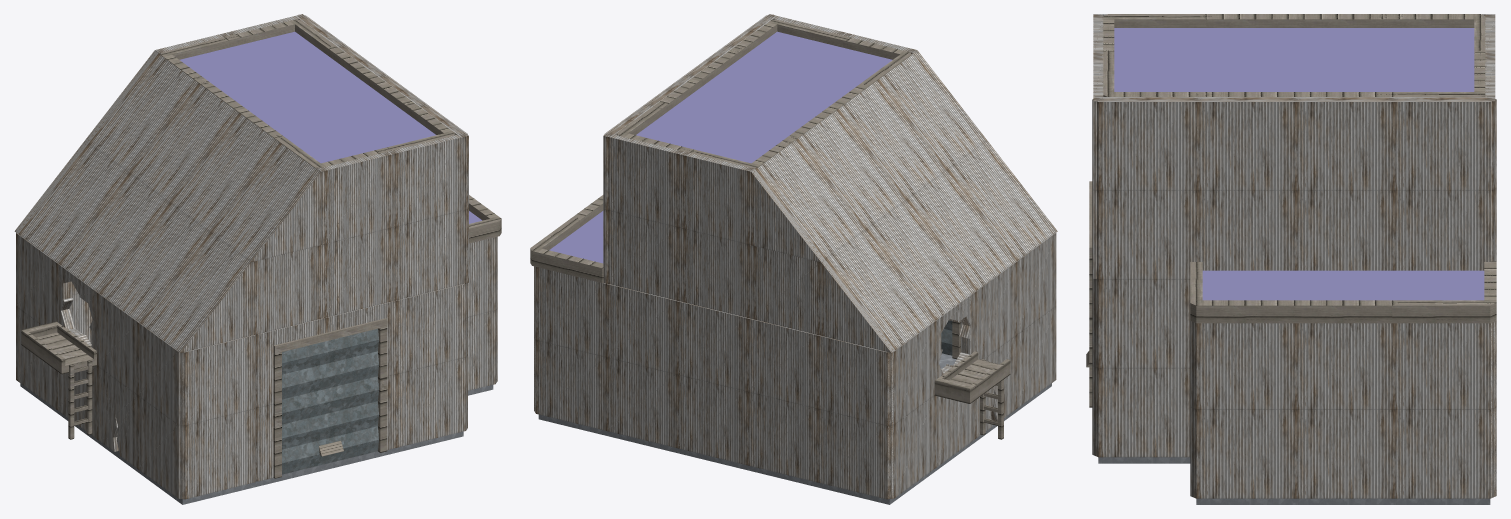
Rendered from Warehouse 1.fbx.
The picture shows the model from 3 angles, left to right: view 1: azimuth 30°, elevation 25°; view 2: azimuth 150°, elevation 25°; view 3: azimuth 270°, elevation 25°; orthographic projection. The views are drawn at different scales.
Parts seen in each view (by area): view 1: mergedBlocks; view 2: mergedBlocks; view 3: mergedBlocks.
Boxes of the visible parts, left/top/right/bottom form: mergedBlocks: left=14, top=14, right=501, bottom=504; mergedBlocks: left=530, top=14, right=1057, bottom=504; mergedBlocks: left=1086, top=14, right=1496, bottom=504.
Bounding box in the file's own units: 56.84 × 41 × 41.84.
Materials: 5 (4 with a texture image).
